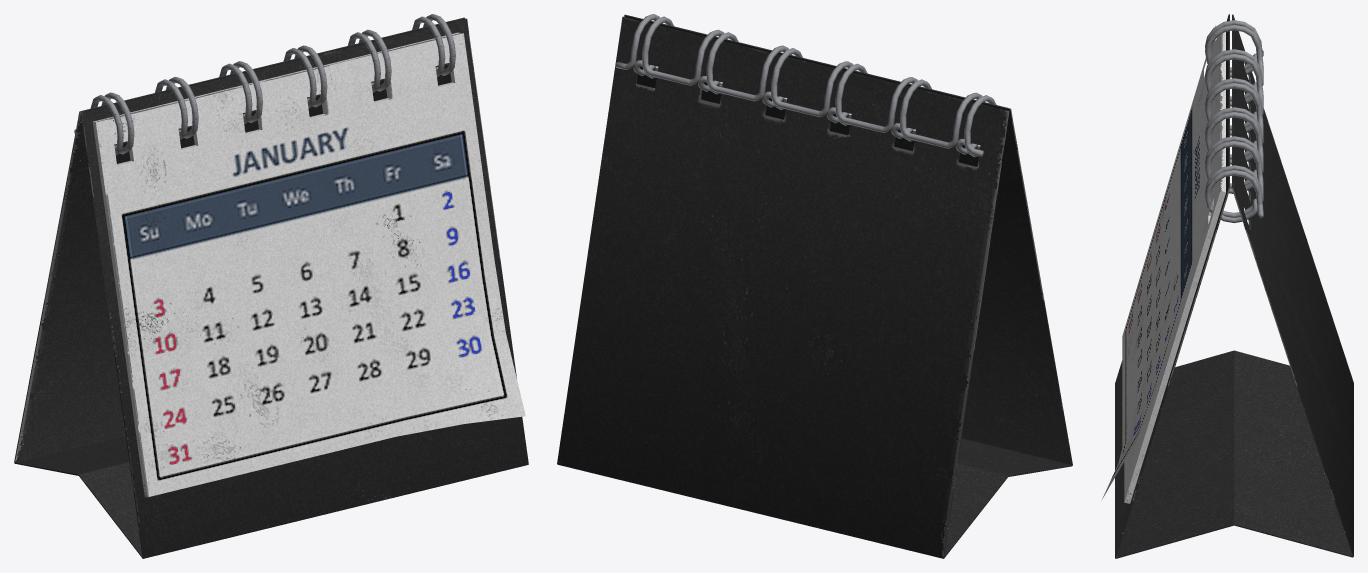
3 renders of one model, left to right at view 1: azimuth 30°, elevation 25°; view 2: azimuth 150°, elevation 25°; view 3: azimuth 270°, elevation 25°, orthographic. The views are drawn at different scales.
Visible parts, largest first — view 1: DeskCalendar_c, DeskCalendar_b, DeskCalendar_a, DeskCalendar_d; view 2: DeskCalendar_b, DeskCalendar_a; view 3: DeskCalendar_b, DeskCalendar_c, DeskCalendar_a, DeskCalendar_d.
Part boxes in pixels (left/top/right/bottom): DeskCalendar_c: left=98, top=33, right=525, bottom=496; DeskCalendar_b: left=14, top=17, right=528, bottom=558; DeskCalendar_a: left=74, top=14, right=455, bottom=155; DeskCalendar_d: left=93, top=32, right=461, bottom=497; DeskCalendar_b: left=557, top=14, right=1072, bottom=558; DeskCalendar_a: left=615, top=14, right=996, bottom=157; DeskCalendar_b: left=1115, top=14, right=1353, bottom=558; DeskCalendar_c: left=1101, top=25, right=1215, bottom=500; DeskCalendar_a: left=1205, top=20, right=1263, bottom=223; DeskCalendar_d: left=1124, top=32, right=1225, bottom=503.
Bounding box in the file's own units: 0.06 × 0.0607 × 0.0369.
1 material, 1 textured.
